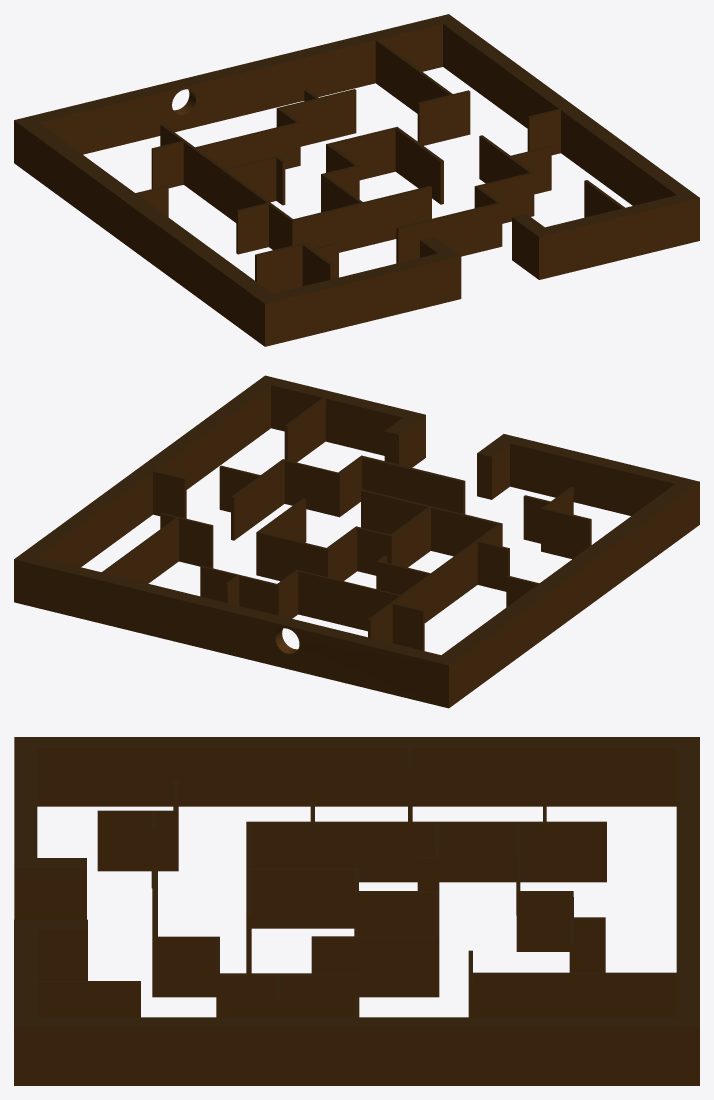
The model's file is Rumah Dalam.fbx.
3 renders of one model, top to bottom at view 1: azimuth 30°, elevation 25°; view 2: azimuth 150°, elevation 25°; view 3: azimuth 270°, elevation 25°, orthographic. The views are drawn at different scales.
Parts seen in each view (by area): view 1: Rumah Dalam; view 2: Rumah Dalam; view 3: Rumah Dalam.
Part boxes in pixels (x1=…): Rumah Dalam: x1=14, y1=14, x2=699, y2=346; Rumah Dalam: x1=14, y1=375, x2=699, y2=708; Rumah Dalam: x1=14, y1=737, x2=699, y2=1085.
Bounding box in the file's own units: 5800 × 638 × 5800.
